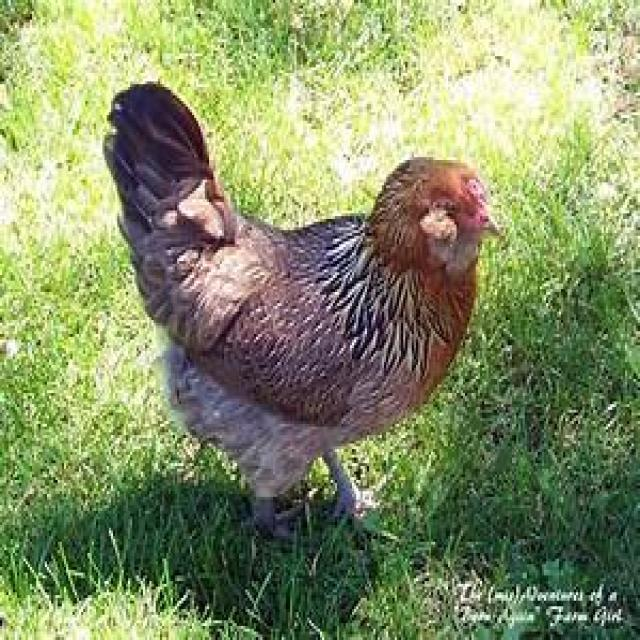hen: (100, 81, 506, 539)
